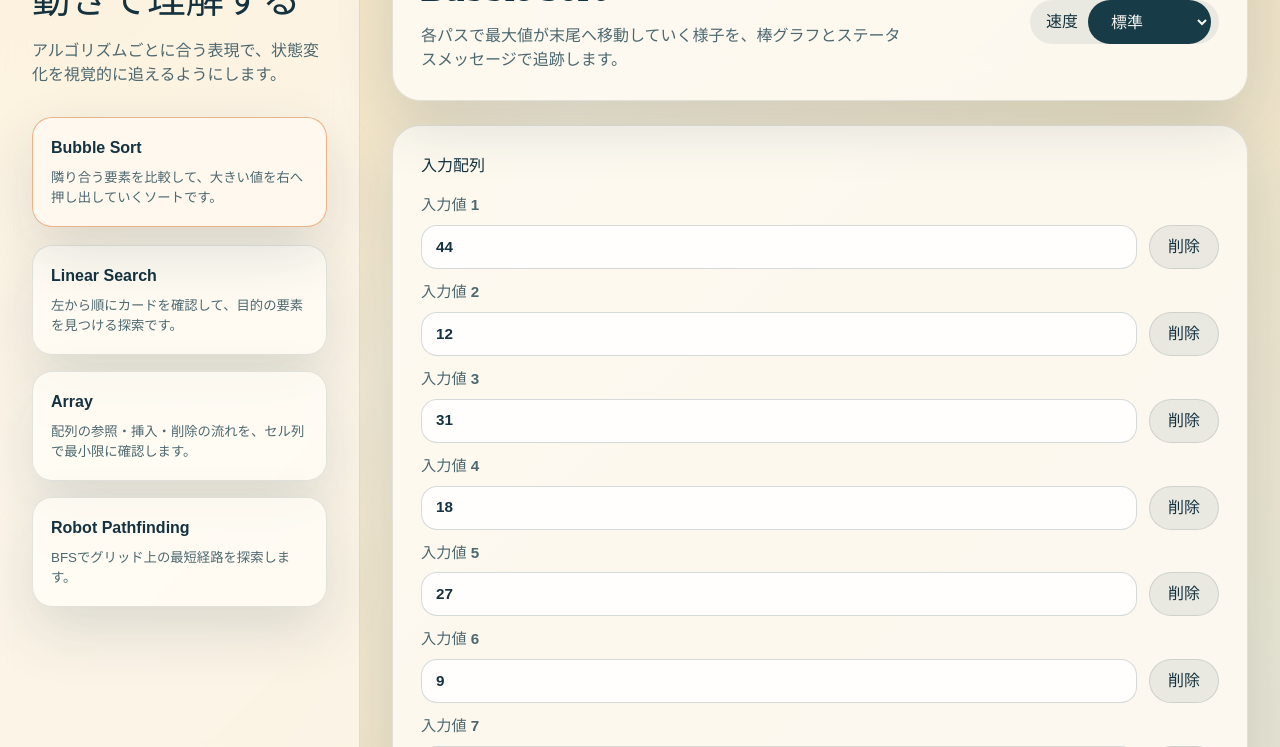
Test: App › applies edited linear search inputs and target
Click the button "Linear Search 左から順にカードを確認して、目的の要素を見つける探索です。" at (180, 300), box [32,245,327,355]
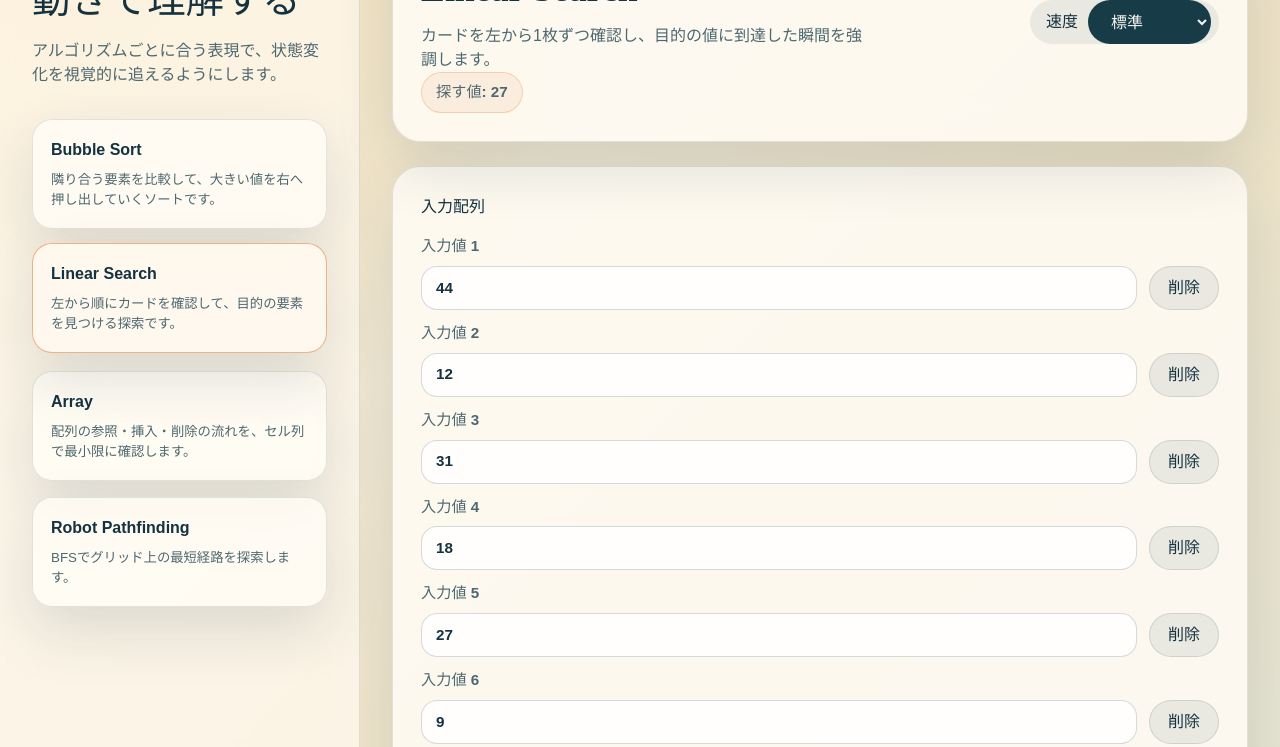
Replace the text in the number field labelled "入力値 1" with "8" at (779, 288), box [421,266,1137,310]
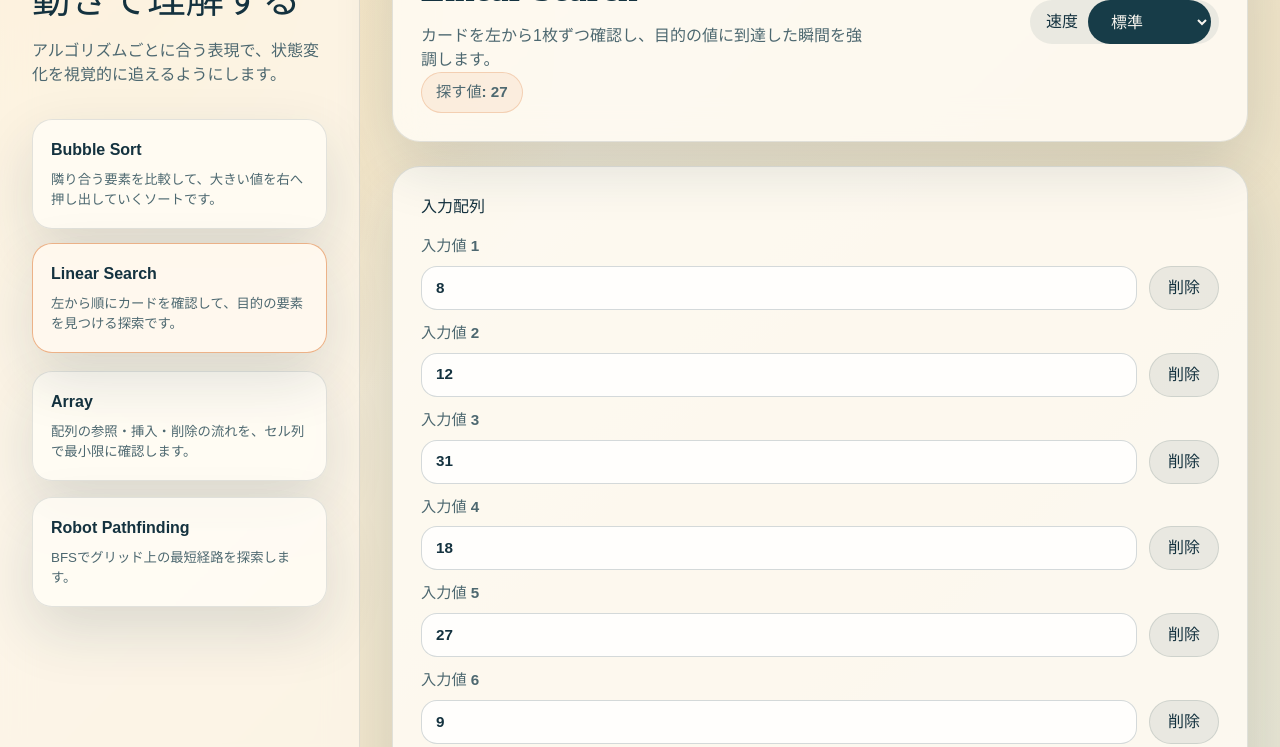
Replace the text in the number field labelled "入力値 2" with "3" at (779, 375), box [421,353,1137,397]
(page scrolled)
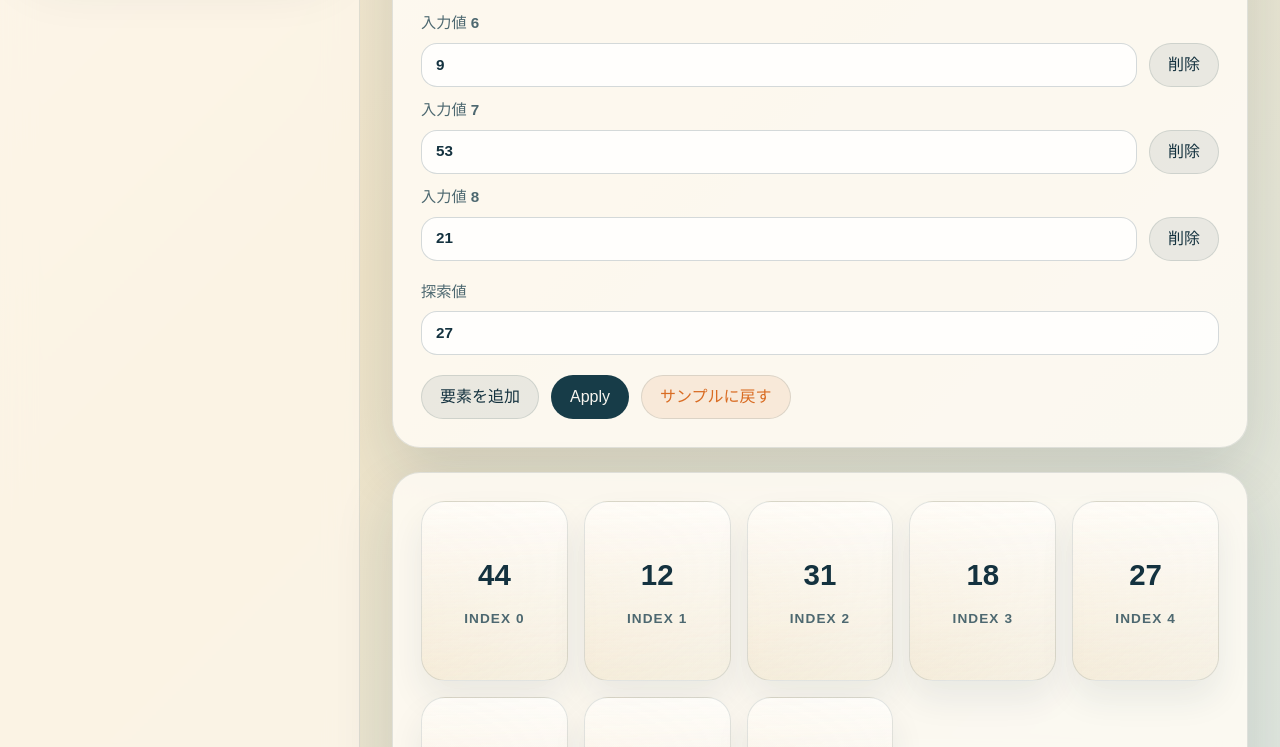
Replace the text in the number field labelled "探索値" with "3" at (820, 334), box [421,312,1219,356]
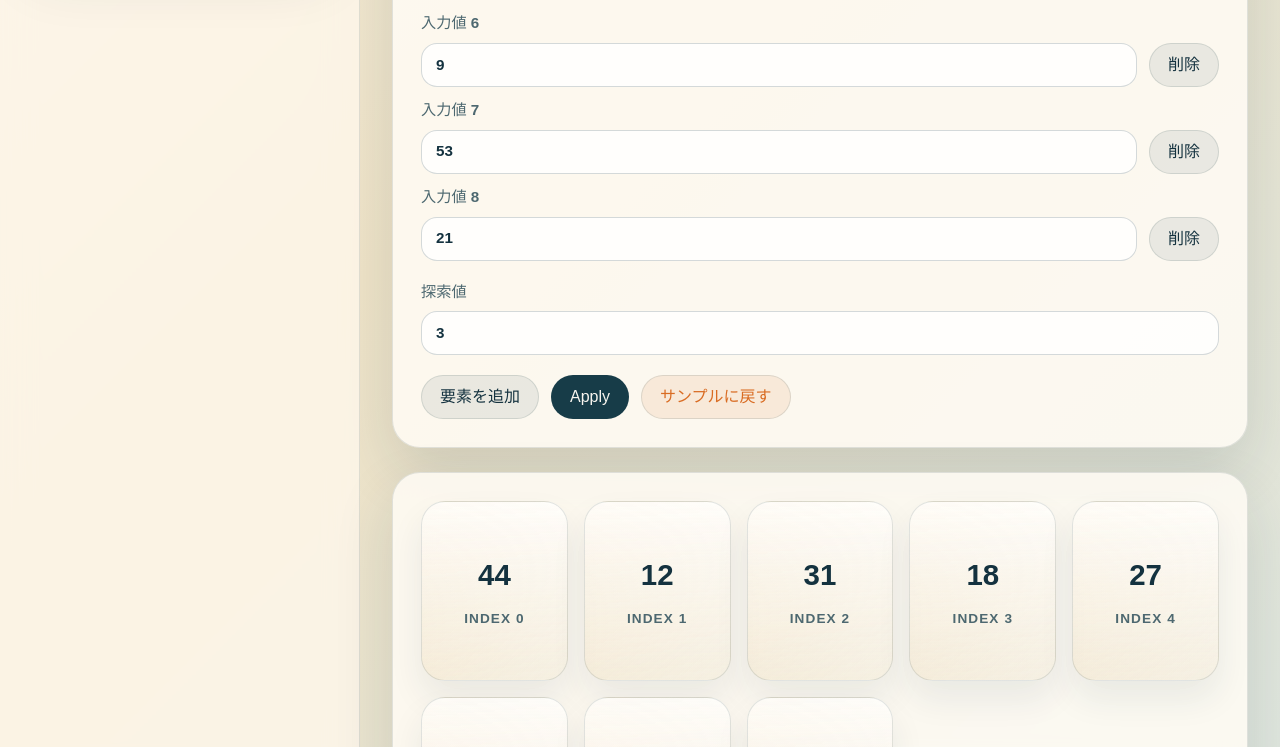
Click the button "Apply" at (590, 398), box [551,376,629,420]
(page scrolled)
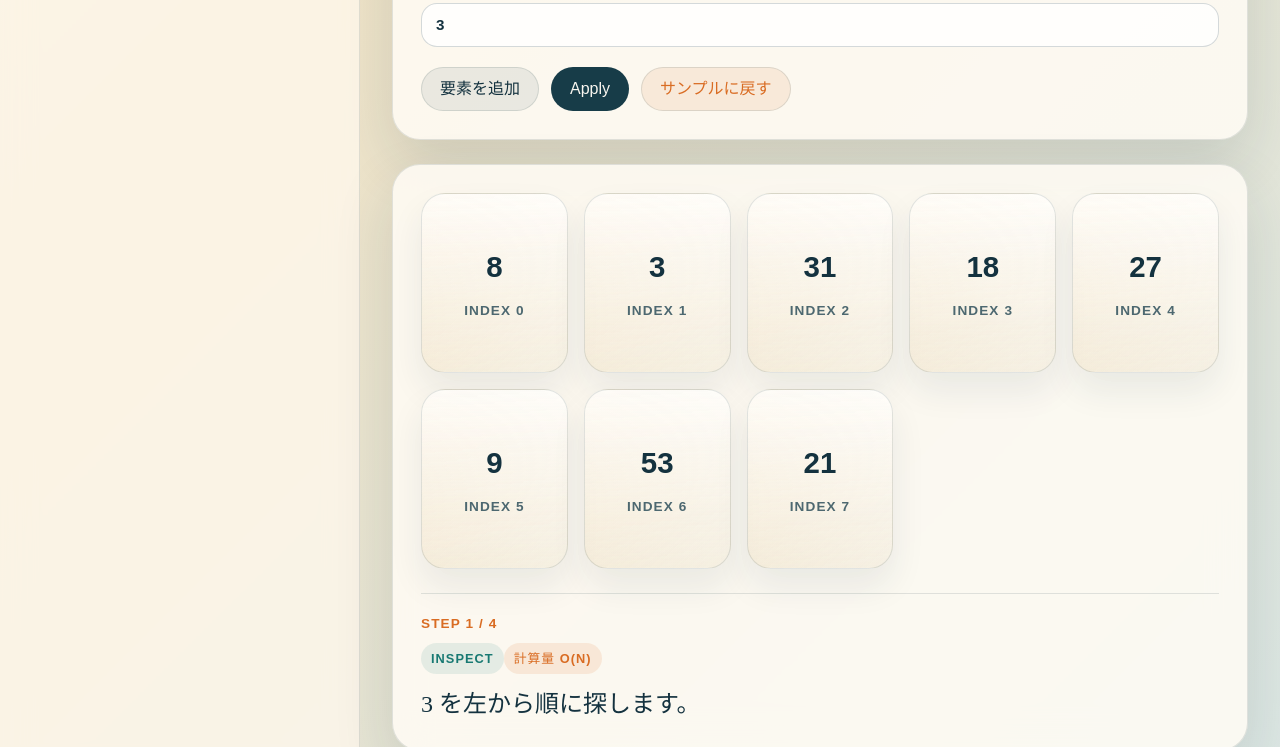
Check: the element named "value 8, index 0" is shown, box [421,194,568,374]
Check: the element named "value 3, index 1" is shown, box [584,194,731,374]
Check: the text "3 を左から順に探します。" is shown, box [421,691,701,717]
